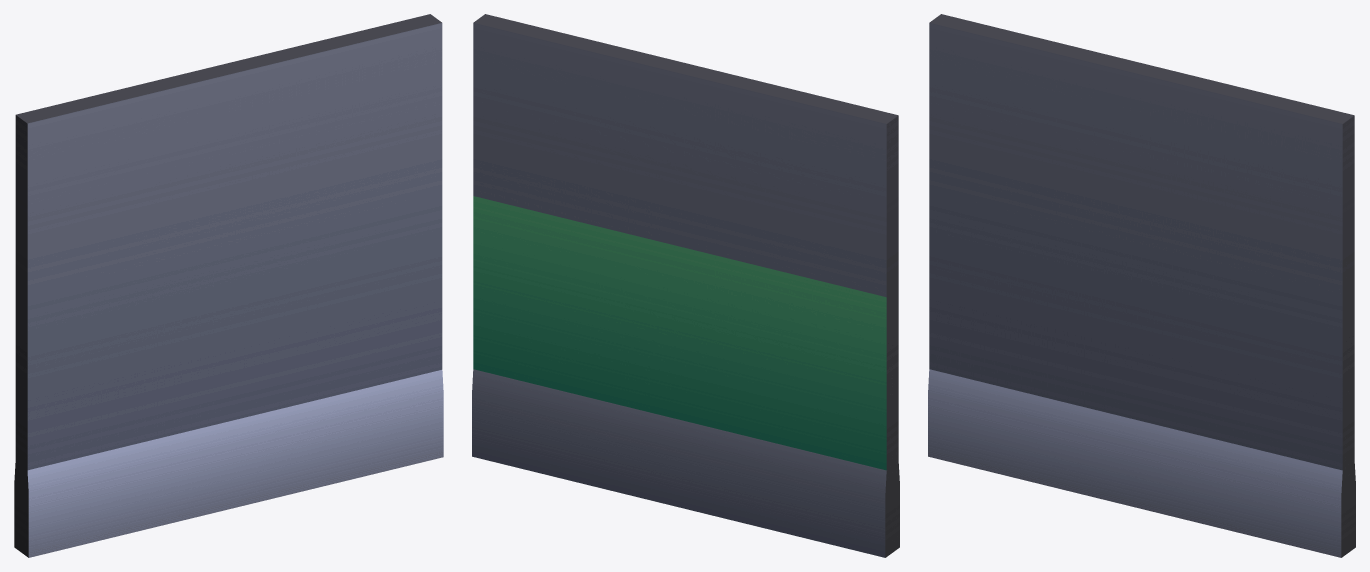
Rendered from wall.050_lev2.glb.
The picture shows the model from 3 angles, left to right: view 1: azimuth 30°, elevation 25°; view 2: azimuth 150°, elevation 25°; view 3: azimuth 330°, elevation 25°; orthographic projection.
Parts seen in each view (by area): view 1: wall.050_lev2; view 2: wall.050_lev2; view 3: wall.050_lev2.
Boxes of the visible parts, x1,y1,x2,y2 form: wall.050_lev2: [14, 14, 443, 557]; wall.050_lev2: [472, 14, 899, 557]; wall.050_lev2: [928, 14, 1355, 557].
Bounding box in the file's own units: 4 × 4 × 0.2484.
Materials: 1 (1 with a texture image).
